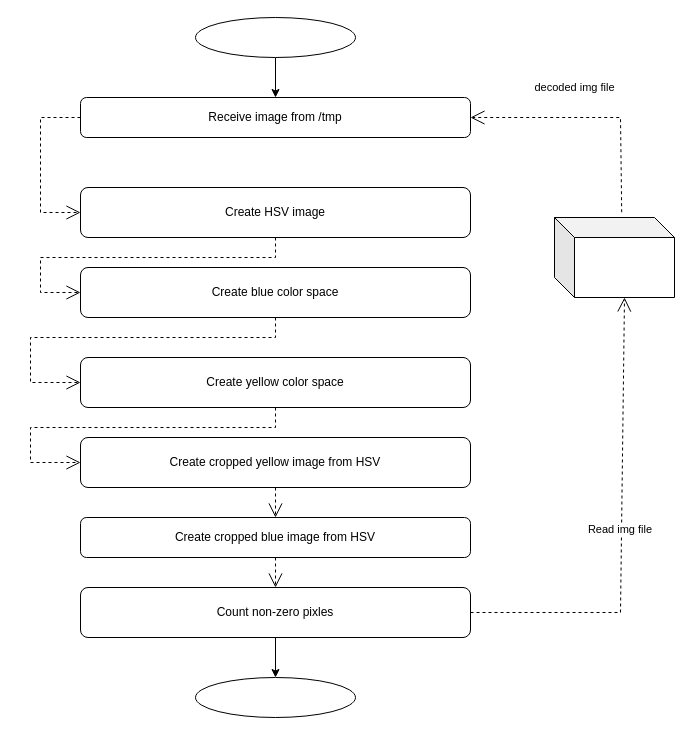
This 692x735 diagram has some shape labels left out. Here are the shapes that lost their labels. From the top down, the centre of each, then its label:
At (275,37): "Start".
At (614,257): "Host machine".
At (275,697): "End".
